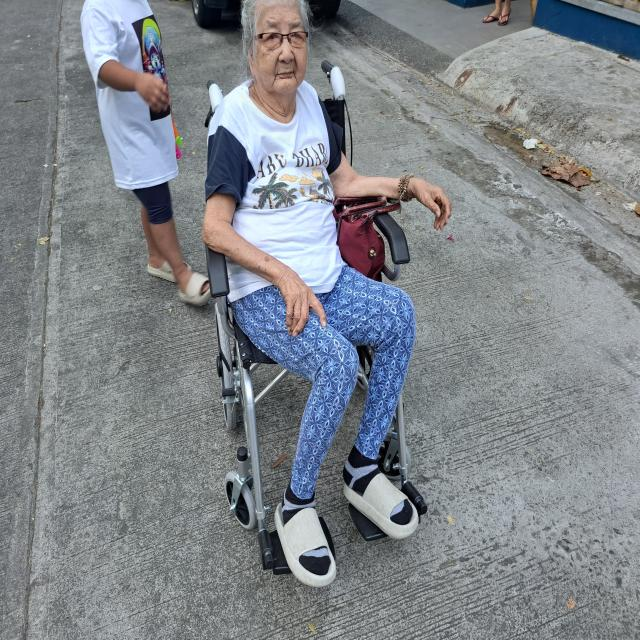wheelchairs: (193, 54, 440, 590)
